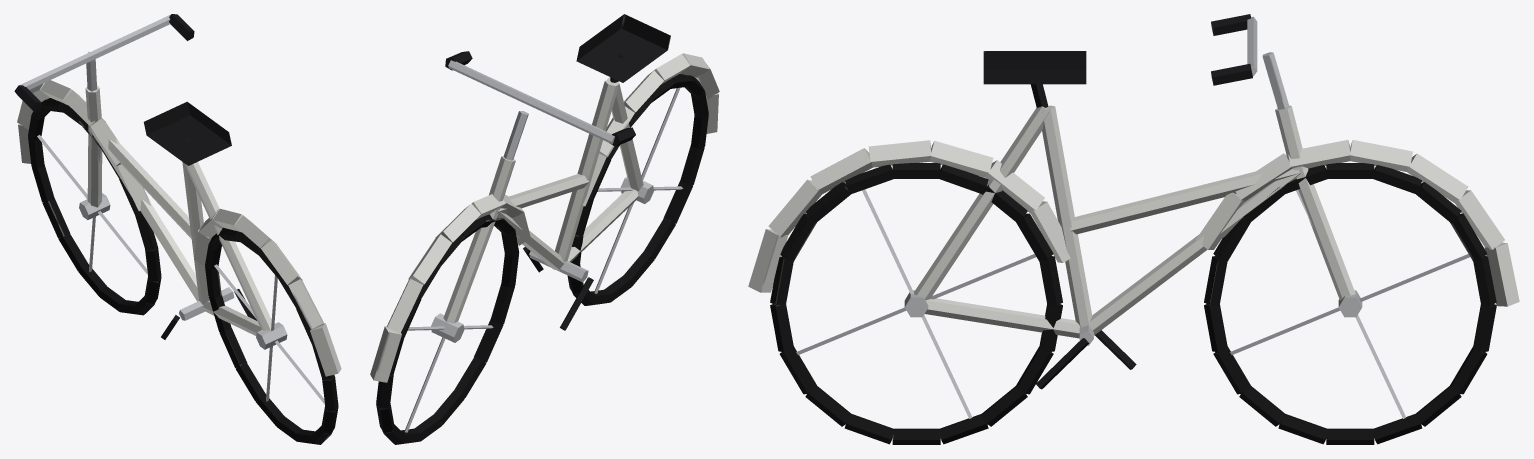
Rendered from kolo_75ba3225.glb.
3 views of the same model, side by side, from view 1: azimuth 30°, elevation 25°; view 2: azimuth 150°, elevation 25°; view 3: azimuth 270°, elevation 25° (orthographic). The views are drawn at different scales.
Parts seen in each view (by area): view 1: dum; view 2: dum; view 3: dum.
Part boxes in pixels (x1,y1,x2,y2): dum: (14, 14, 341, 444); dum: (370, 14, 719, 444); dum: (748, 14, 1519, 444).
Size of the model in its own units: 0.5906 by 1.09 by 1.95.
1 material, 1 textured.
